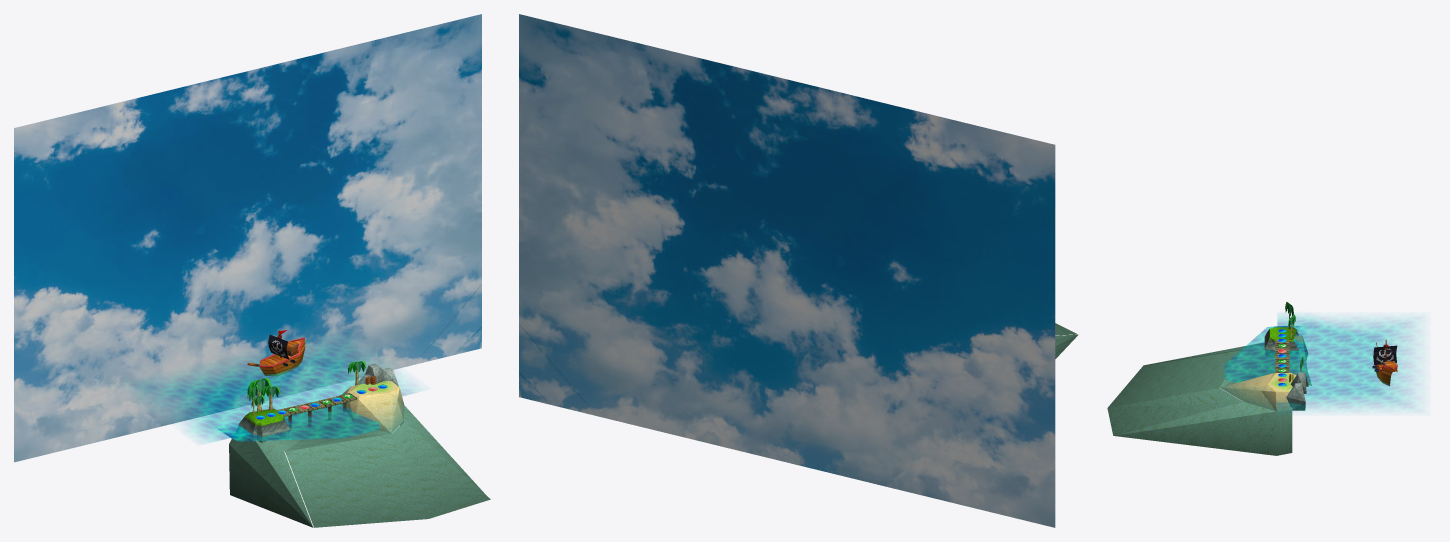
File: Smash64RemixPirateLand.glb
3 views of the same model, side by side, from view 1: azimuth 30°, elevation 25°; view 2: azimuth 150°, elevation 25°; view 3: azimuth 270°, elevation 25° (orthographic). The views are drawn at different scales.
Parts seen in each view (by area): view 1: Plane, SMASH REMIX (n64_scene).045, SMASH REMIX (n64_scene).026, SMASH REMIX (n64_scene).014, SMASH REMIX (n64_scene).010, SMASH REMIX (n64_scene).011, SMASH REMIX (n64_scene).019, SMASH REMIX (n64_scene).022; view 2: Plane; view 3: SMASH REMIX (n64_scene).026, SMASH REMIX (n64_scene).014, SMASH REMIX (n64_scene).045, SMASH REMIX (n64_scene).010, SMASH REMIX (n64_scene).016.
Part boxes in pixels (x1,y1,x2,y2): Plane: [14, 14, 481, 462]; SMASH REMIX (n64_scene).045: [285, 421, 490, 527]; SMASH REMIX (n64_scene).026: [138, 337, 418, 442]; SMASH REMIX (n64_scene).014: [229, 387, 485, 527]; SMASH REMIX (n64_scene).010: [247, 330, 305, 376]; SMASH REMIX (n64_scene).011: [247, 361, 366, 415]; SMASH REMIX (n64_scene).019: [238, 417, 289, 443]; SMASH REMIX (n64_scene).022: [276, 393, 357, 428]; Plane: [519, 14, 1055, 527]; SMASH REMIX (n64_scene).026: [1225, 315, 1415, 410]; SMASH REMIX (n64_scene).014: [1115, 335, 1311, 455]; SMASH REMIX (n64_scene).045: [1107, 350, 1242, 435]; SMASH REMIX (n64_scene).010: [1372, 340, 1397, 385]; SMASH REMIX (n64_scene).016: [1286, 372, 1308, 410].
Size of what is drawn, in the model's own units: 71.63 by 50.58 by 47.63.
21 materials, 21 textured.
